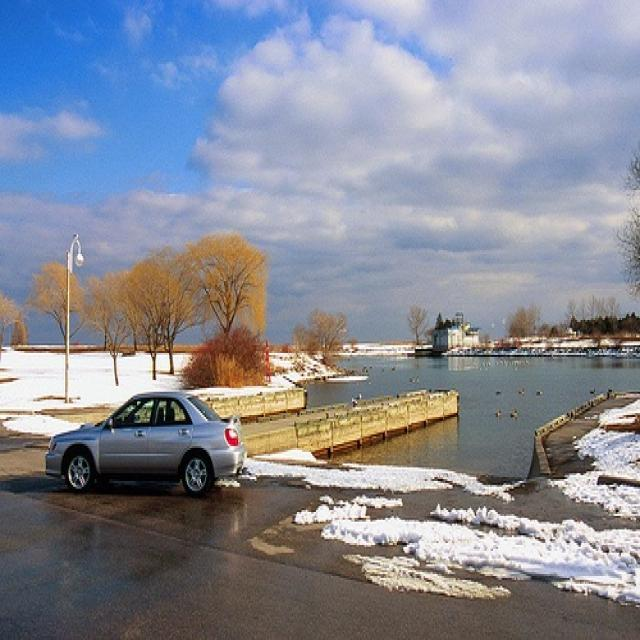car: (42, 390, 242, 500)
